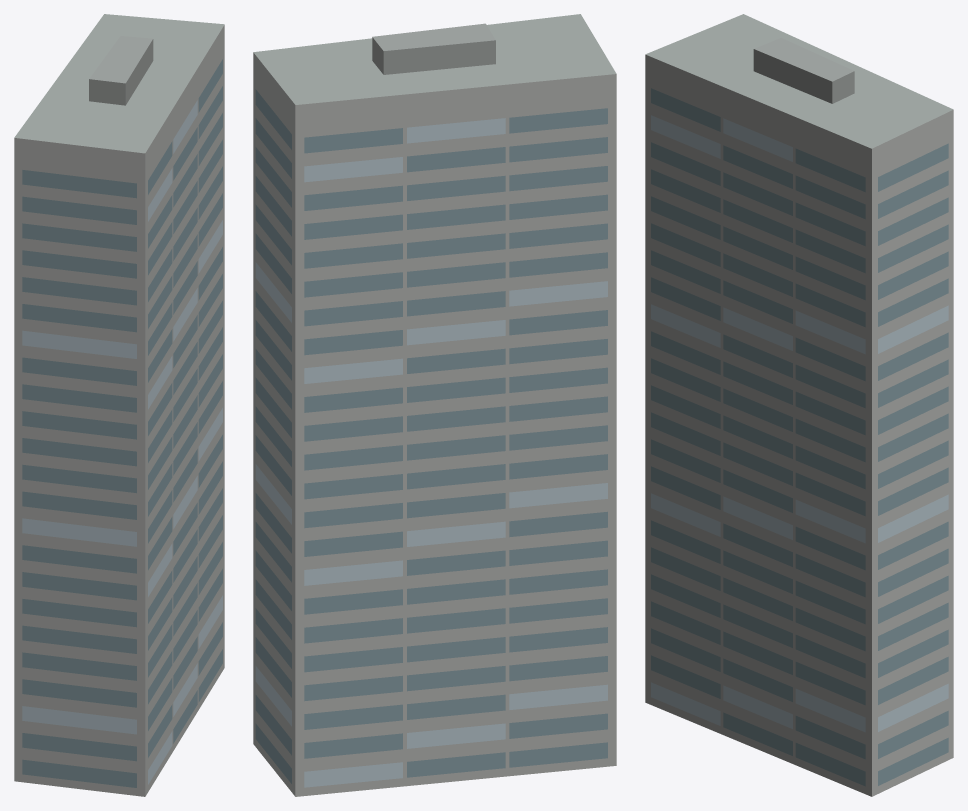
File: fallback-raemian-blesstige-204.glb
3 views of the same model, side by side, from view 1: azimuth 30°, elevation 25°; view 2: azimuth 150°, elevation 25°; view 3: azimuth 270°, elevation 25° (orthographic). The views are drawn at different scales.
Visible parts, largest first — view 1: fallback-raemian-blesstige-204; view 2: fallback-raemian-blesstige-204; view 3: fallback-raemian-blesstige-204.
Part boxes in pixels (<box>): fallback-raemian-blesstige-204: <box>14,14,224,796</box>; fallback-raemian-blesstige-204: <box>253,14,616,796</box>; fallback-raemian-blesstige-204: <box>645,14,953,796</box>.
Bounding box in the file's own units: 31.05 × 72 × 30.03.
